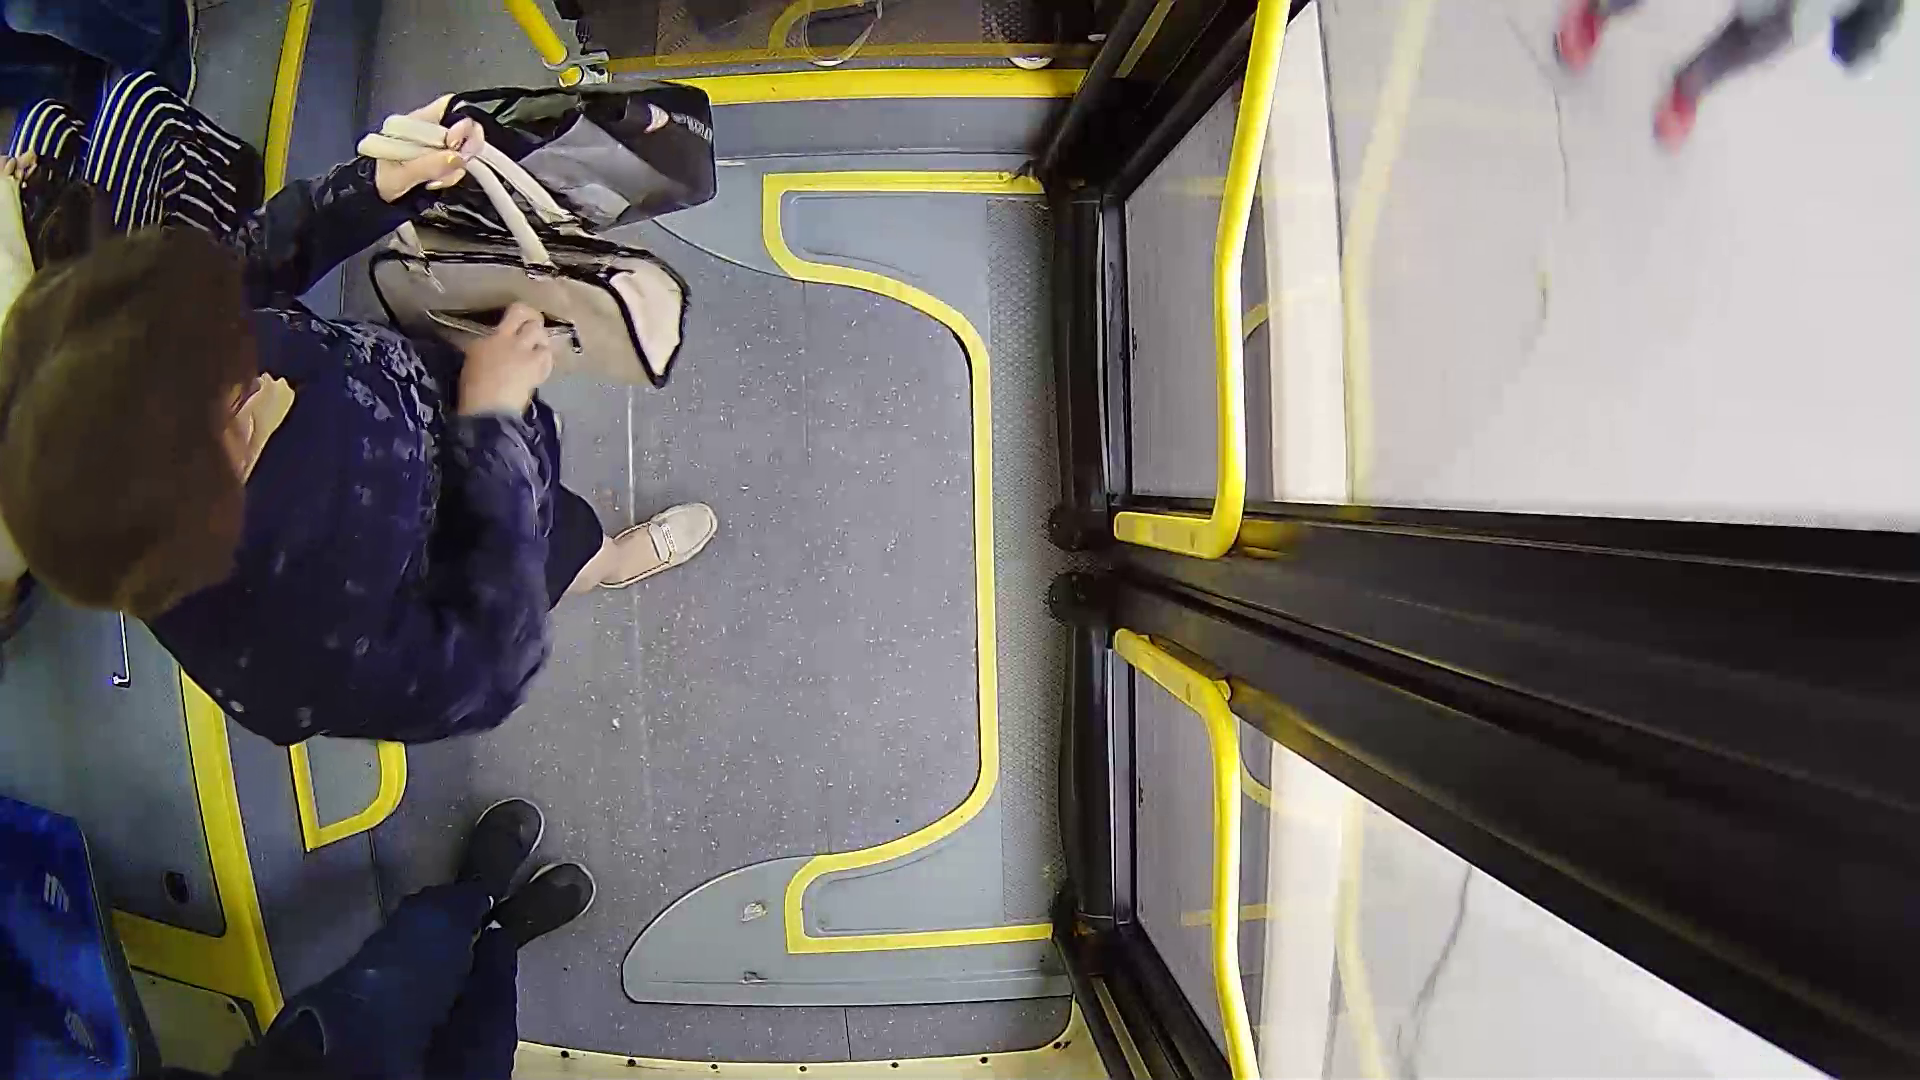person: (33, 94, 788, 738)
